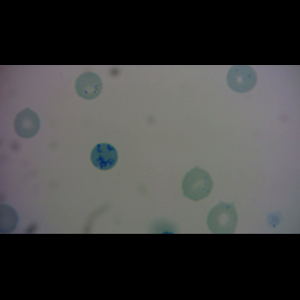aggregate reticulocyte: (89, 142, 119, 171)
erythrocyte: (13, 107, 42, 139), (74, 72, 103, 100)
punctate reticulocyte: (205, 201, 242, 234), (181, 167, 214, 202), (225, 65, 261, 94)
